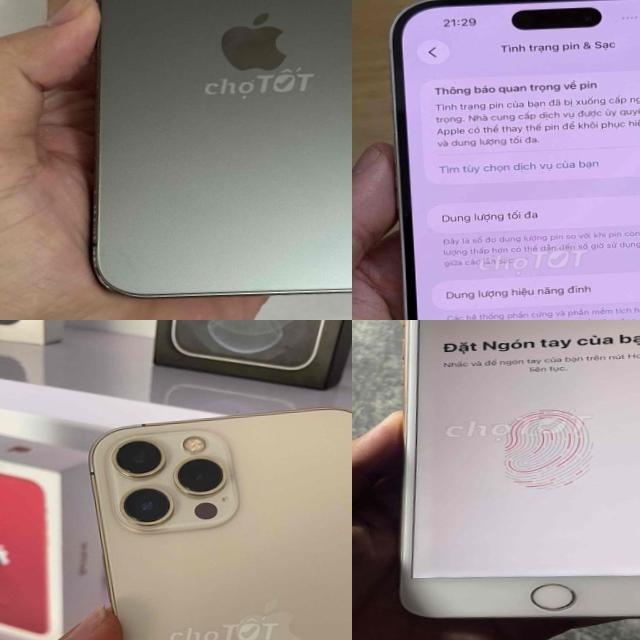gen_12_13: (69, 0, 352, 307), (77, 391, 352, 640)
gen_14: (371, 0, 640, 320)
gen_7_8: (389, 320, 640, 629)
